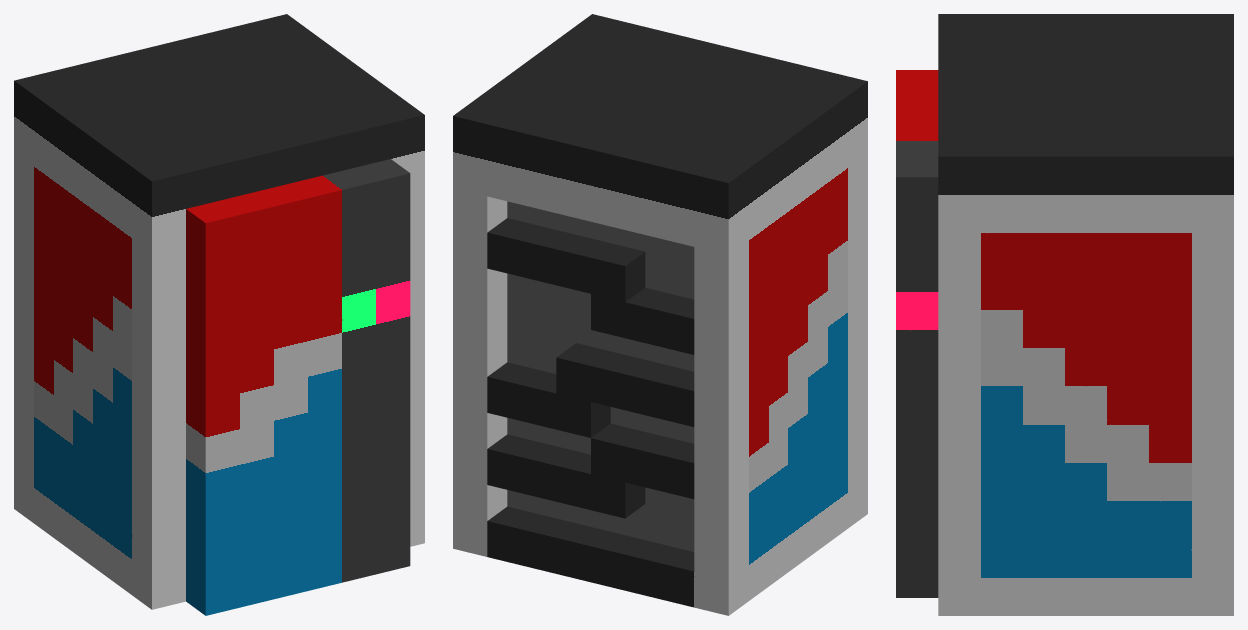
File: Znak.dae
3 views of the same model, side by side, from view 1: azimuth 30°, elevation 25°; view 2: azimuth 150°, elevation 25°; view 3: azimuth 270°, elevation 25° (orthographic). The views are drawn at different scales.
Parts seen in each view (by area): view 1: Znak; view 2: Znak; view 3: Znak.
Part boxes in pixels (left/top/right/bottom): Znak: left=14, top=14, right=424, bottom=615; Znak: left=453, top=14, right=867, bottom=615; Znak: left=896, top=14, right=1233, bottom=615.
Bounding box in the file's own units: 8 × 12 × 8.
1 material, 1 textured.
